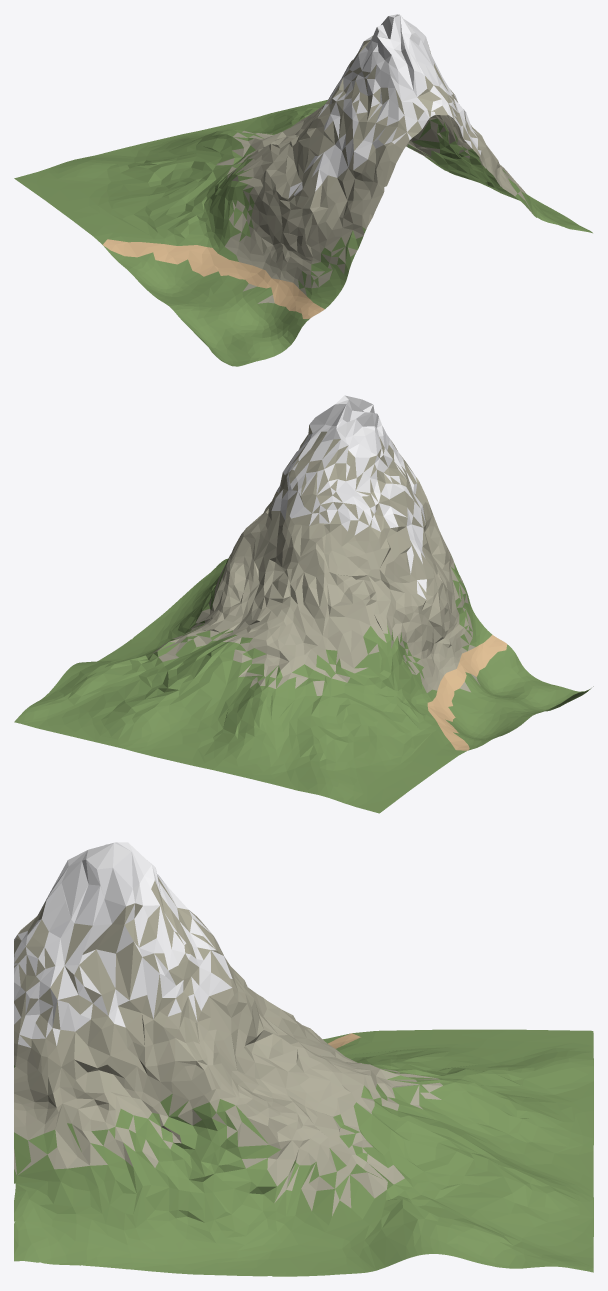
3 renders of one model, top to bottom at view 1: azimuth 30°, elevation 25°; view 2: azimuth 150°, elevation 25°; view 3: azimuth 270°, elevation 25°, orthographic. The views are drawn at different scales.
Visible parts, largest first — view 1: Plane; view 2: Plane; view 3: Plane.
Part boxes in pixels (x1=…): Plane: x1=14, y1=14, x2=592, y2=366; Plane: x1=14, y1=395, x2=593, y2=813; Plane: x1=14, y1=842, x2=593, y2=1276.
Bounding box in the file's own units: 506 × 361 × 501.
